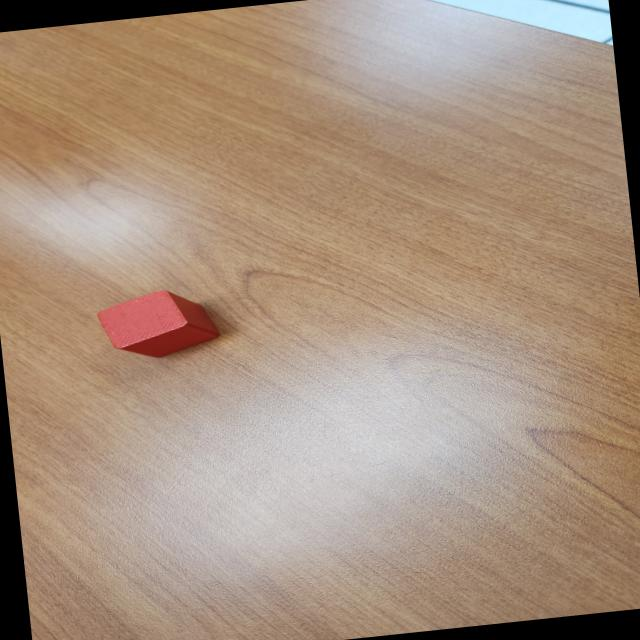red: (96, 284, 222, 362)
